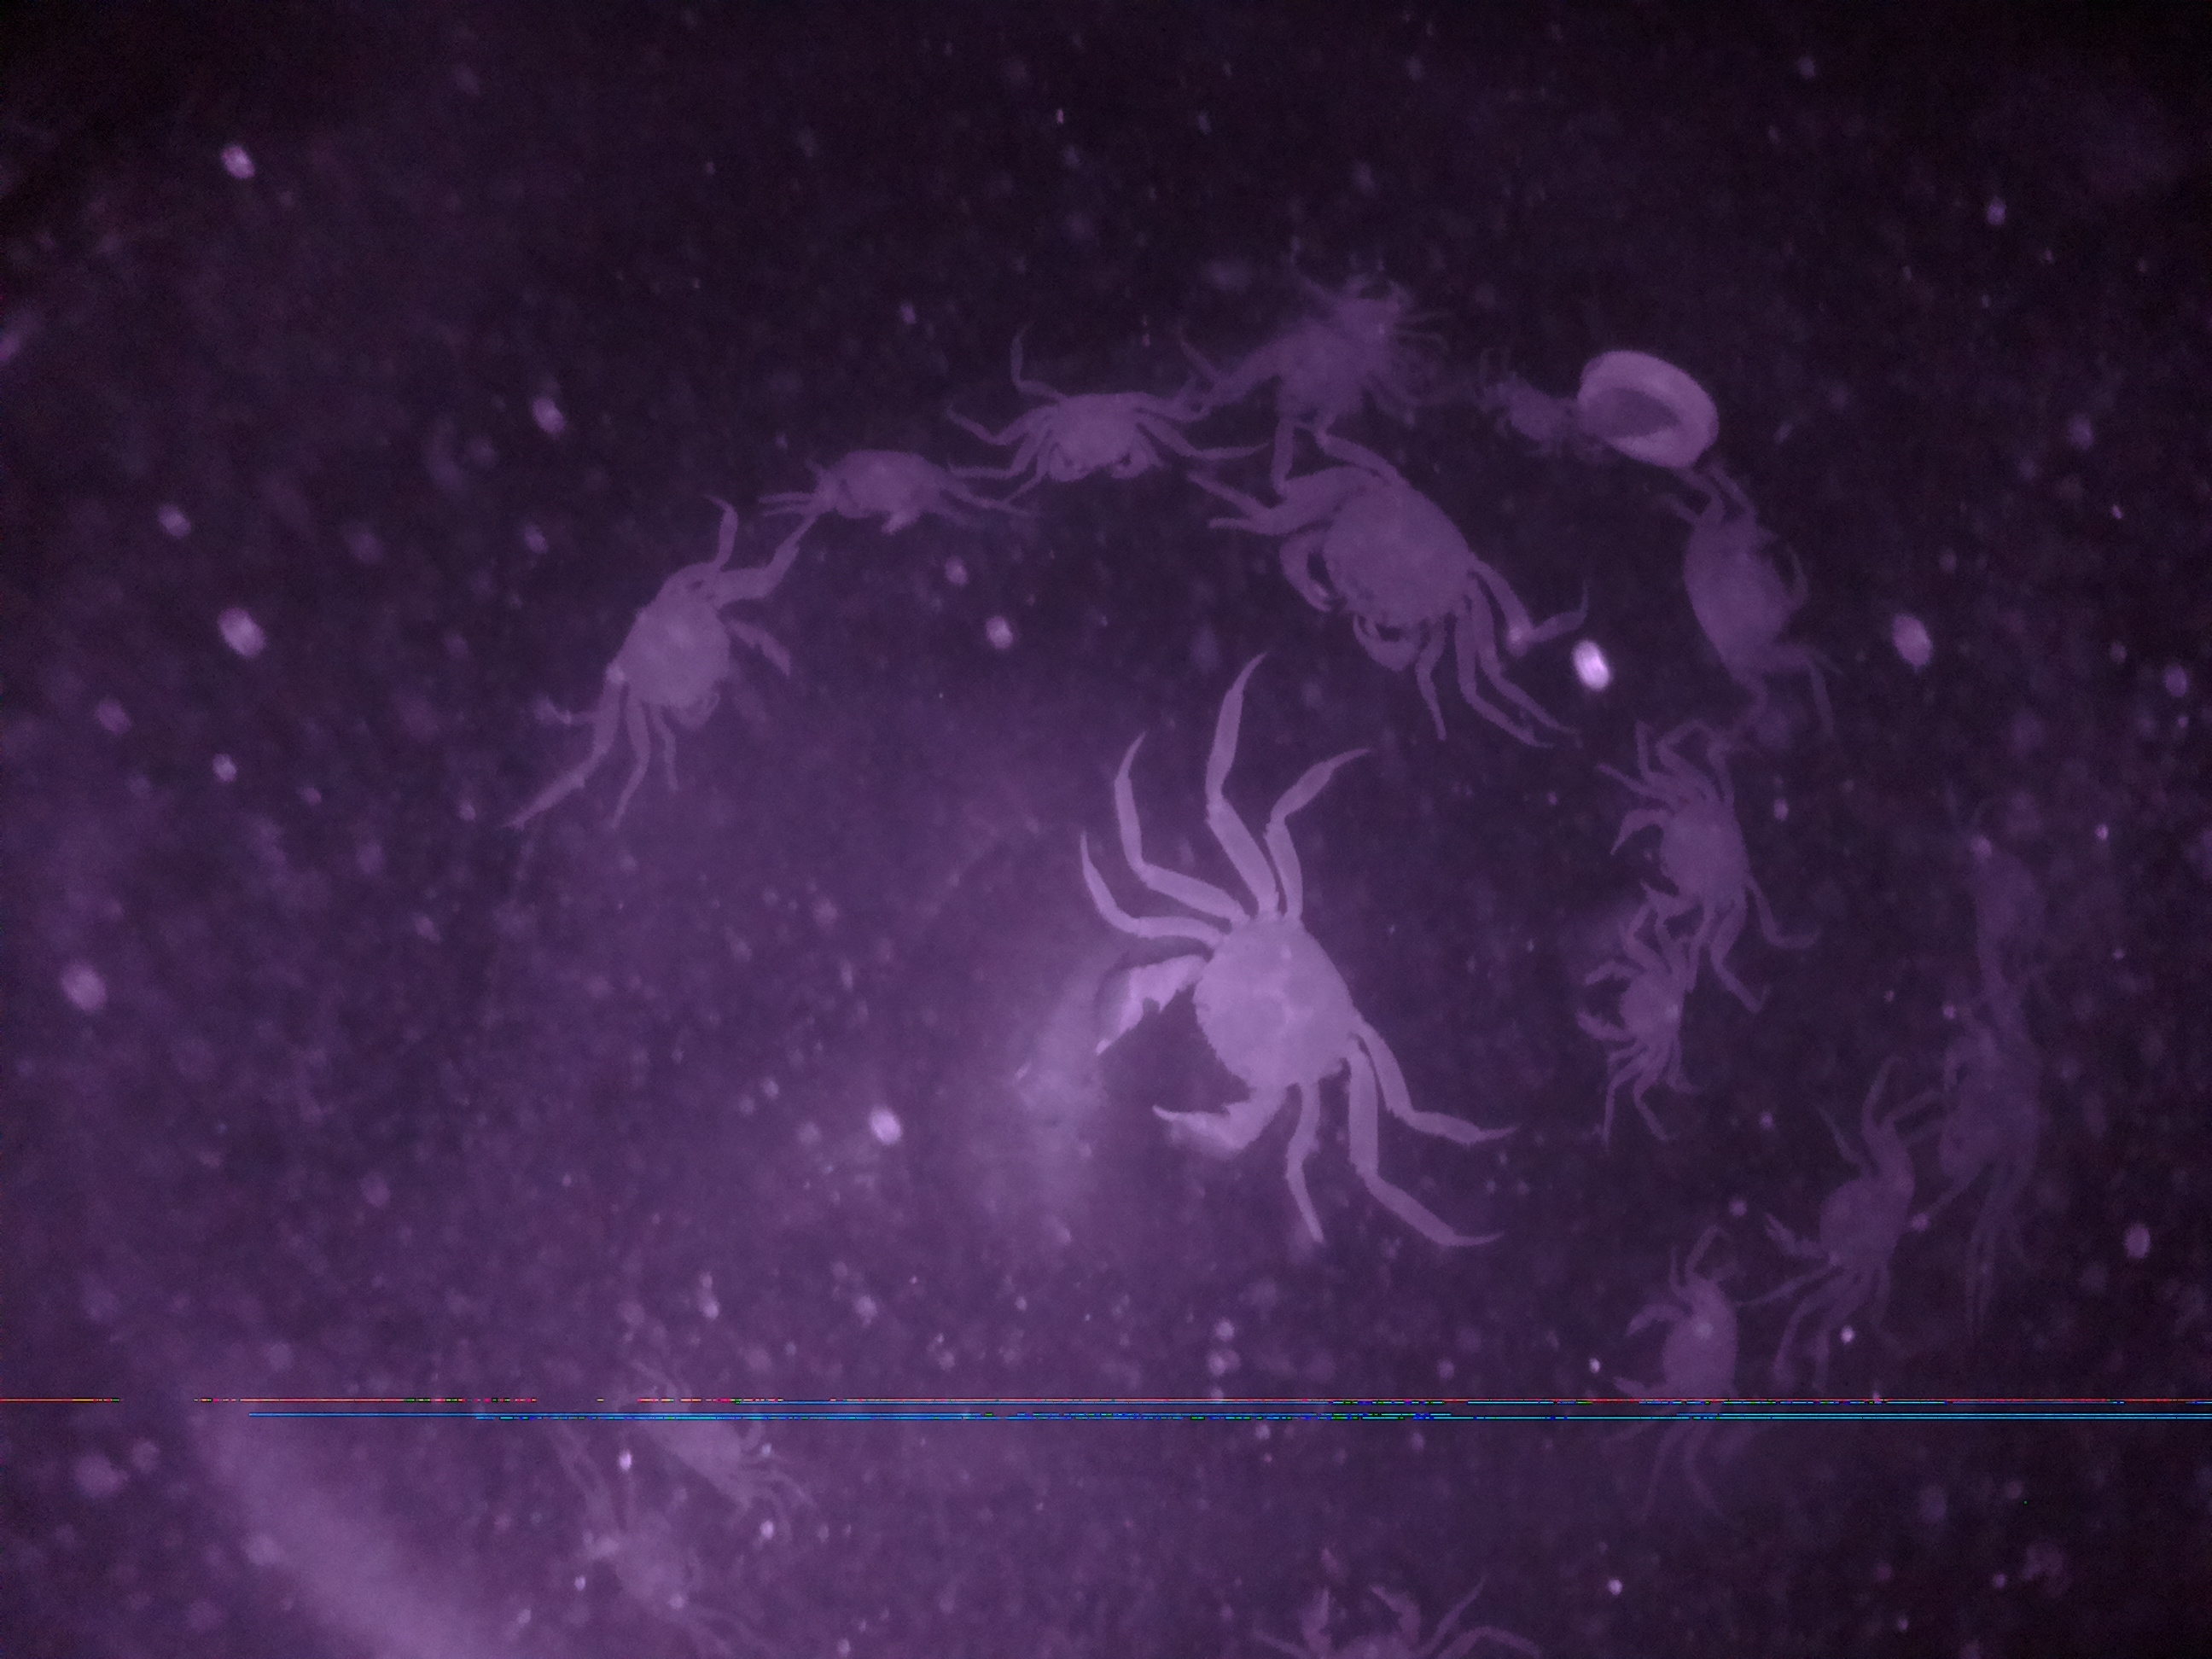Crab: (1075, 877, 1395, 1182), (1266, 446, 1503, 681), (587, 556, 763, 755), (1662, 497, 1827, 681), (1592, 767, 1766, 936), (1555, 946, 1710, 1080), (1001, 376, 1170, 488)
